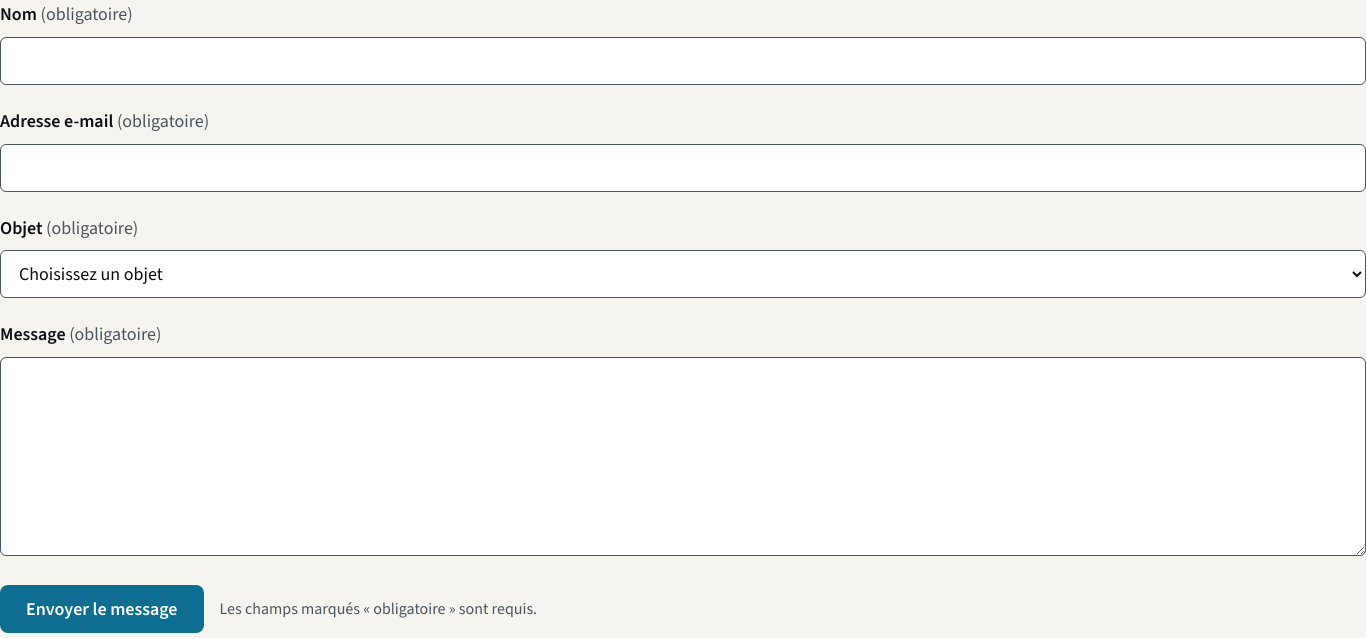
Test: ContactForm › should tie each error to its field, and clear it as soon as the visitor types
The image size is (1366, 638).
Click the button "Envoyer le message".
click(102, 609)  # box [0,585,204,633]
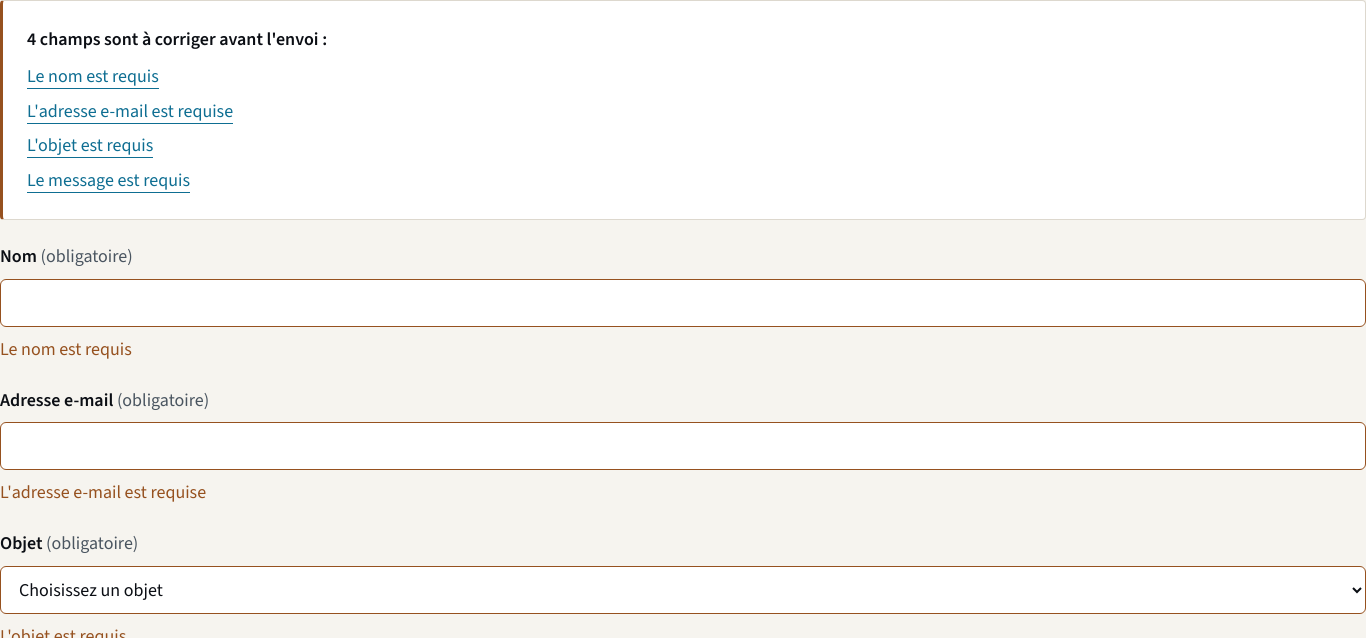
Expected: the text "Le nom est requis" is shown, [0,337,132,361]
Type "M" into the field labelled "Nom (obligatoire)".
click(683, 303); type("M")  # box [0,279,1365,327]
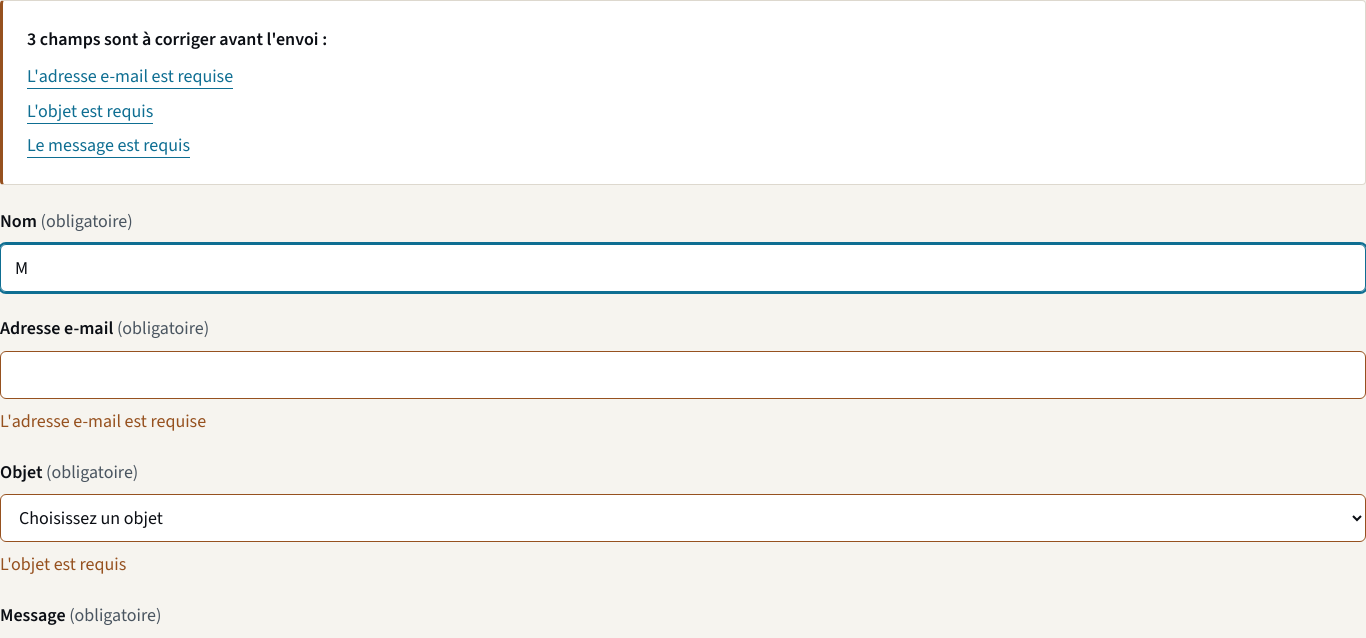
Expected: the text with id "contact-name-error" is gone
Expected: the link "Le nom est requis" is gone
